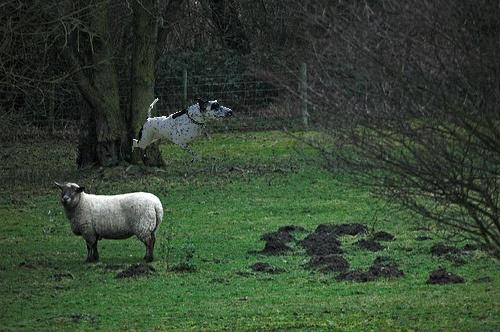tampered: (133, 99, 232, 163)
